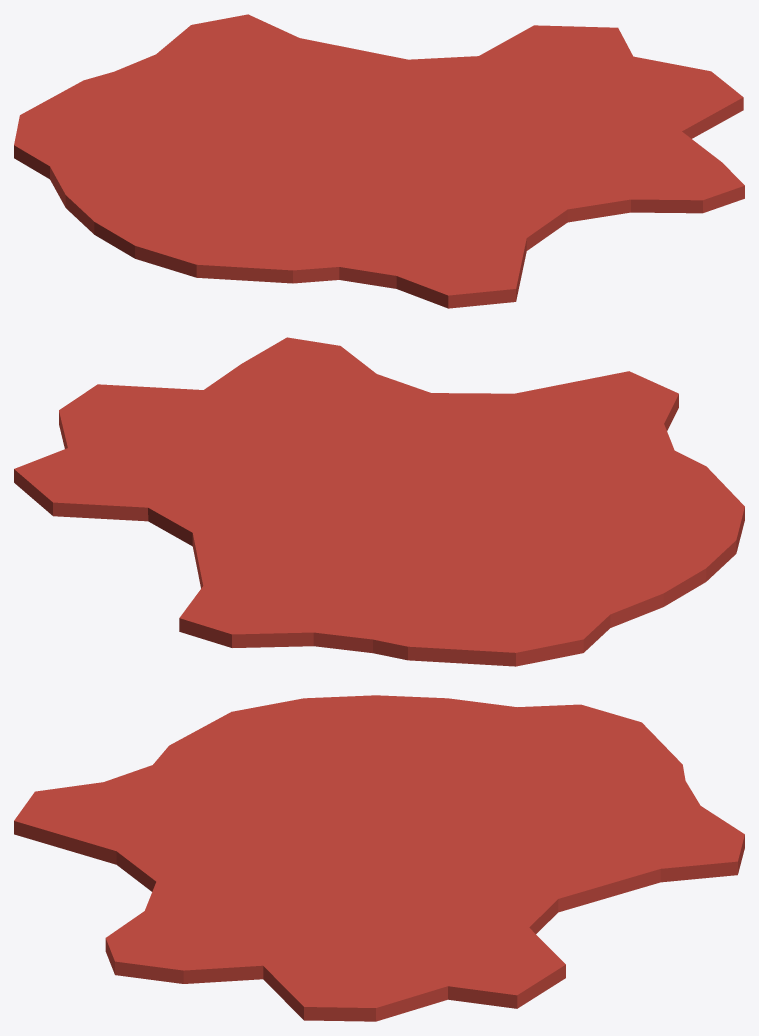
Rendered from smallSplat.obj.
3 renders of one model, top to bottom at view 1: azimuth 30°, elevation 25°; view 2: azimuth 150°, elevation 25°; view 3: azimuth 270°, elevation 25°, orthographic. The views are drawn at different scales.
Visible parts, largest first — view 1: Splat; view 2: Splat; view 3: Splat.
Boxes of the visible parts, box(x1,y1,x2,y2) form: Splat: box(14, 14, 744, 308); Splat: box(14, 337, 744, 666); Splat: box(14, 695, 744, 1021).
Size of the model in its own units: 0.1377 by 0.00355 by 0.136.
